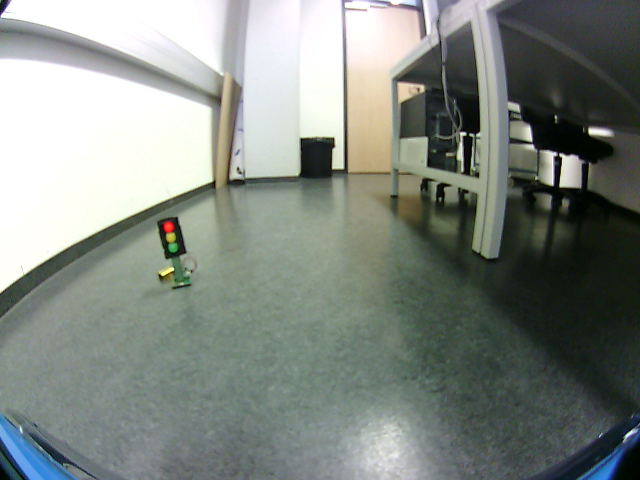red trafficlight: (160, 222, 184, 257)
